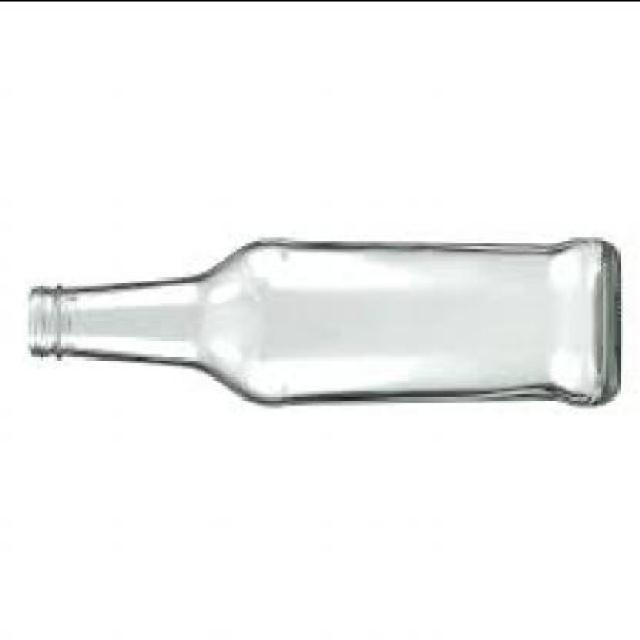GLASS: (26, 236, 614, 410)
